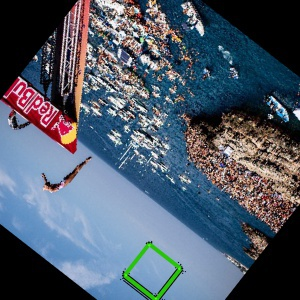square: (119, 238, 188, 300)
